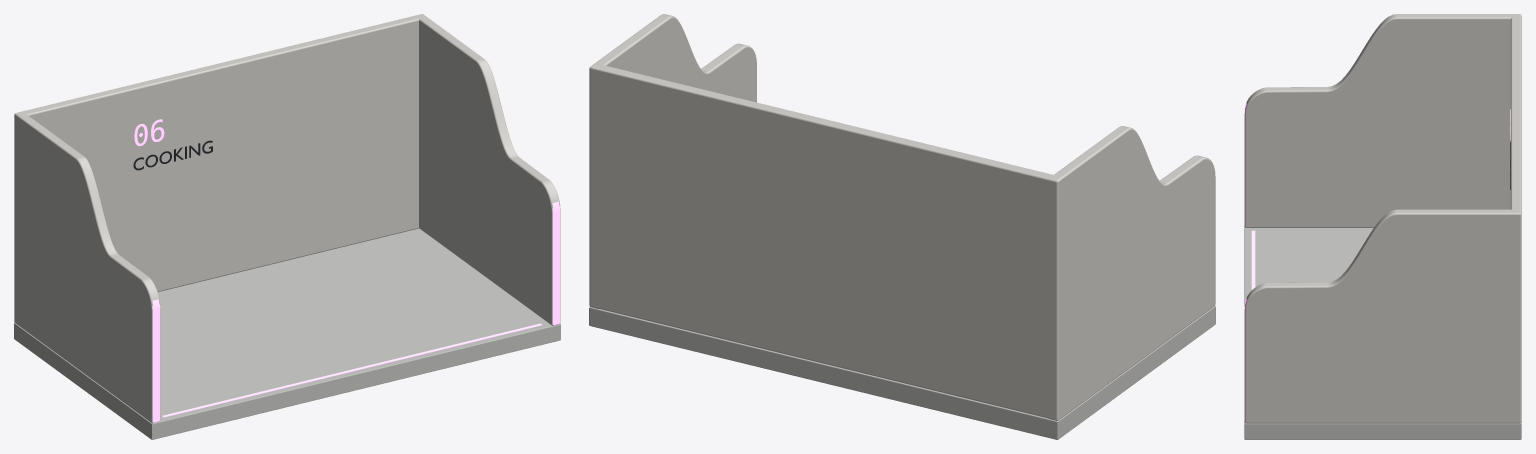
Rendered from Room_06_cooking.glb.
3 renders of one model, left to right at view 1: azimuth 30°, elevation 25°; view 2: azimuth 150°, elevation 25°; view 3: azimuth 270°, elevation 25°, orthographic. The views are drawn at different scales.
Parts seen in each view (by area): view 1: Walls, Floor, Accent, Label; view 2: Walls, Floor; view 3: Walls, Floor, Accent.
Boxes of the visible parts, x1,y1,x2,y2 form: Walls: [14, 14, 560, 423]; Floor: [14, 228, 560, 439]; Accent: [162, 323, 541, 417]; Label: [133, 119, 212, 170]; Walls: [589, 14, 1215, 420]; Floor: [589, 306, 1215, 439]; Walls: [1244, 14, 1521, 423]; Floor: [1244, 226, 1521, 439]; Accent: [1251, 230, 1255, 289].
Bounding box in the file's own units: 5.3 × 2.8 × 3.1.
